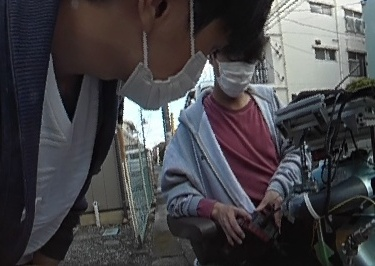person: (163, 20, 289, 237)
